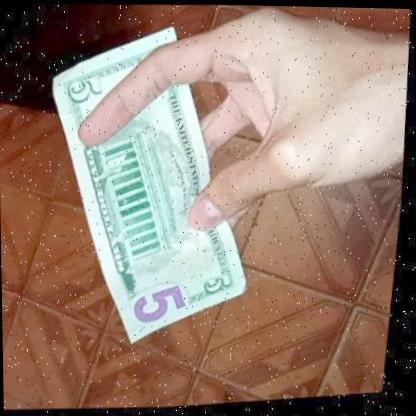five-back: (22, 26, 278, 364)
